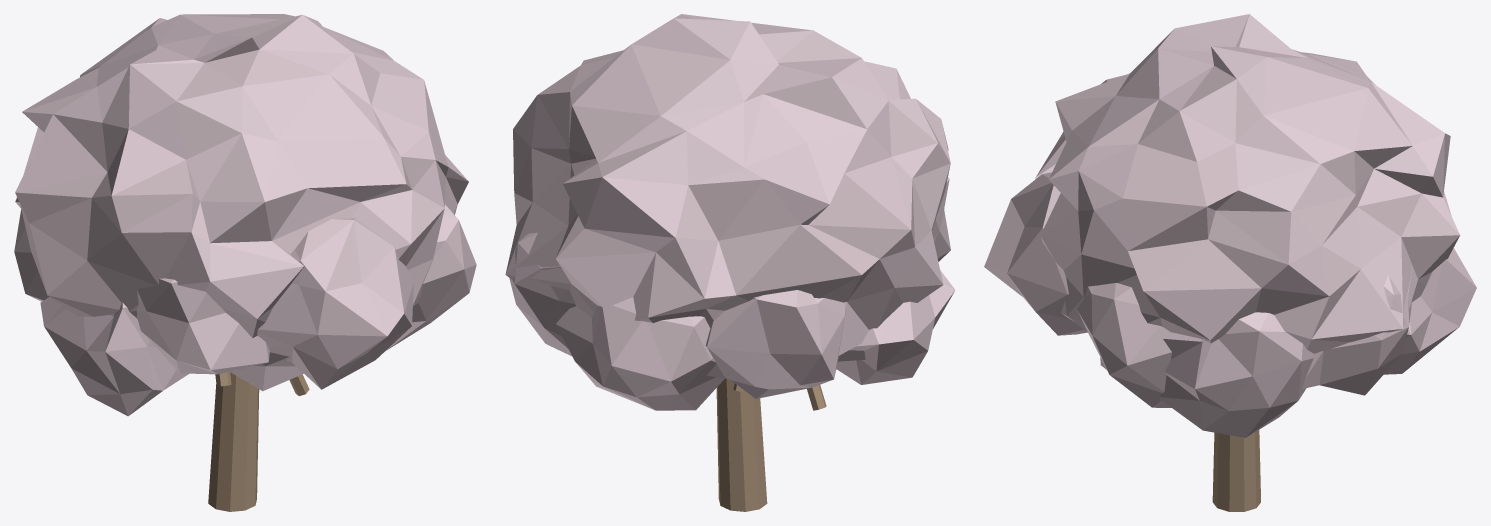
File: sakura_b.glb
The picture shows the model from 3 angles, left to right: view 1: azimuth 30°, elevation 25°; view 2: azimuth 150°, elevation 25°; view 3: azimuth 270°, elevation 25°; orthographic projection. The views are drawn at different scales.
Visible parts, largest first — view 1: Sakura_8; view 2: Sakura_8; view 3: Sakura_8.
Boxes of the visible parts, box(x1,y1,x2,y2) form: Sakura_8: box(14, 14, 476, 511); Sakura_8: box(505, 14, 955, 511); Sakura_8: box(984, 14, 1476, 511).
Size of the model in its own units: 3.69 by 4.18 by 4.07.
